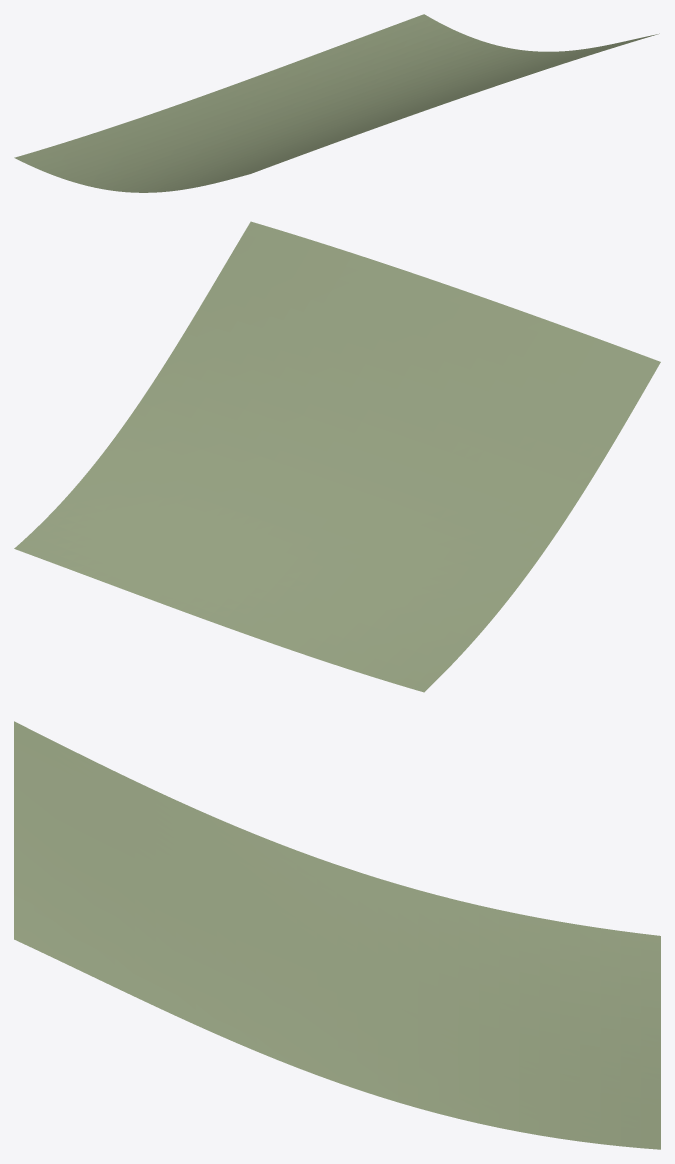
File: expanse-24-20.glb
The picture shows the model from 3 angles, top to bottom: view 1: azimuth 30°, elevation 25°; view 2: azimuth 150°, elevation 25°; view 3: azimuth 270°, elevation 25°; orthographic projection. The views are drawn at different scales.
Parts seen in each view (by area): view 1: expanse-24-20; view 2: expanse-24-20; view 3: expanse-24-20.
Part boxes in pixels (bbox=[...]): expanse-24-20: bbox=[14, 14, 659, 192]; expanse-24-20: bbox=[14, 221, 660, 692]; expanse-24-20: bbox=[14, 721, 660, 1149].
Bounding box in the file's own units: 256 × 118 × 256.
